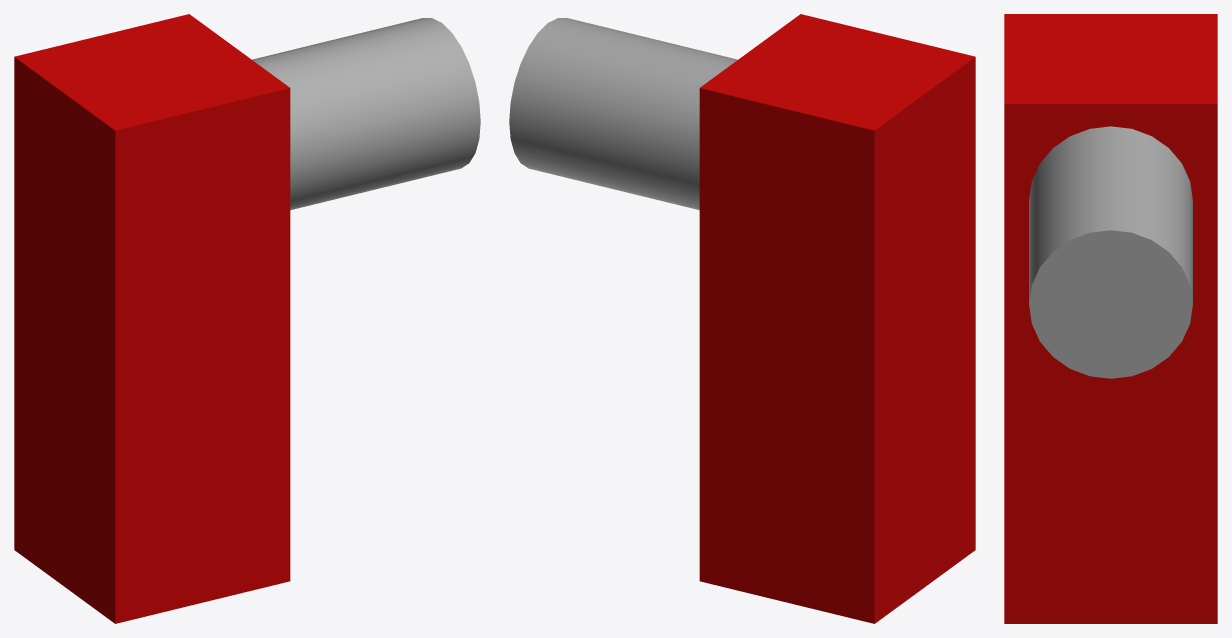
File: sensor_proximity.dae
3 views of the same model, side by side, from view 1: azimuth 30°, elevation 25°; view 2: azimuth 150°, elevation 25°; view 3: azimuth 270°, elevation 25° (orthographic). The views are drawn at different scales.
Parts seen in each view (by area): view 1: Sensor_Ständer, Sensor; view 2: Sensor_Ständer, Sensor; view 3: Sensor_Ständer, Sensor.
Boxes of the visible parts, <box> form: Sensor_Ständer: <box>14,14,290,623</box>; Sensor: <box>252,18,480,210</box>; Sensor_Ständer: <box>699,14,975,623</box>; Sensor: <box>509,18,737,210</box>; Sensor_Ständer: <box>1004,14,1217,623</box>; Sensor: <box>1029,126,1192,378</box>.
Bounding box in the file's own units: 1.1 × 0.5118 × 1.38.
